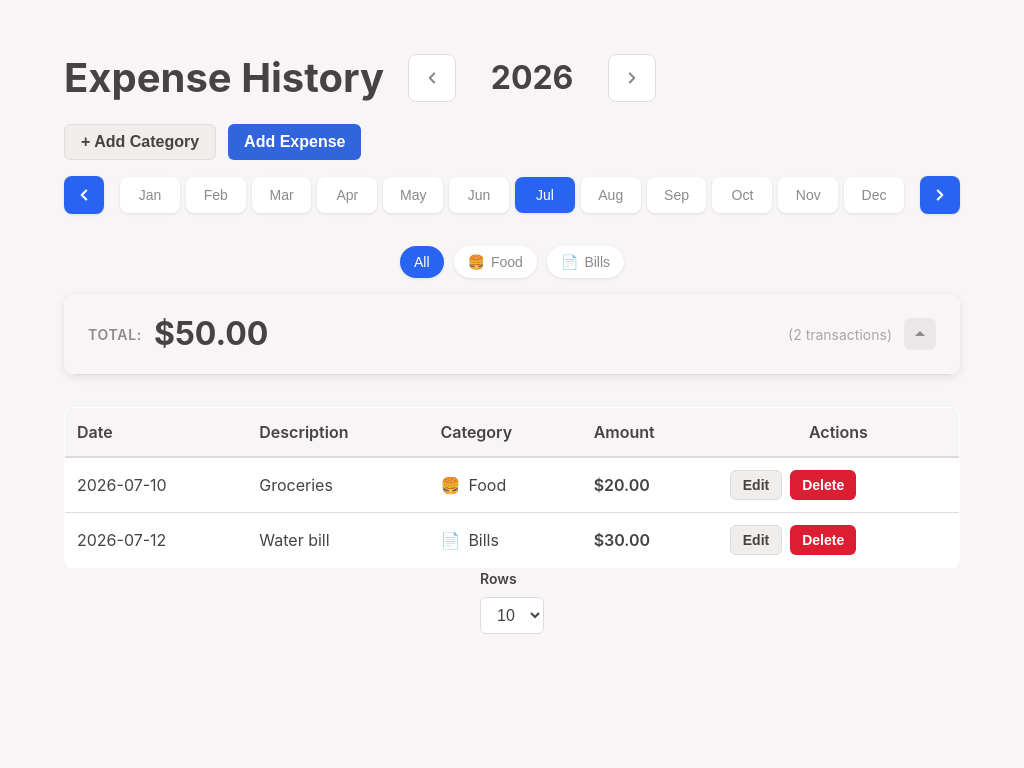
Test: HistoryPage category filtering › narrows the table and total to the selected category
Expected: the text "Groceries" is shown, [247,457,428,512]
Click the button "🍔 Food" at (495, 262), box [454,246,537,278]
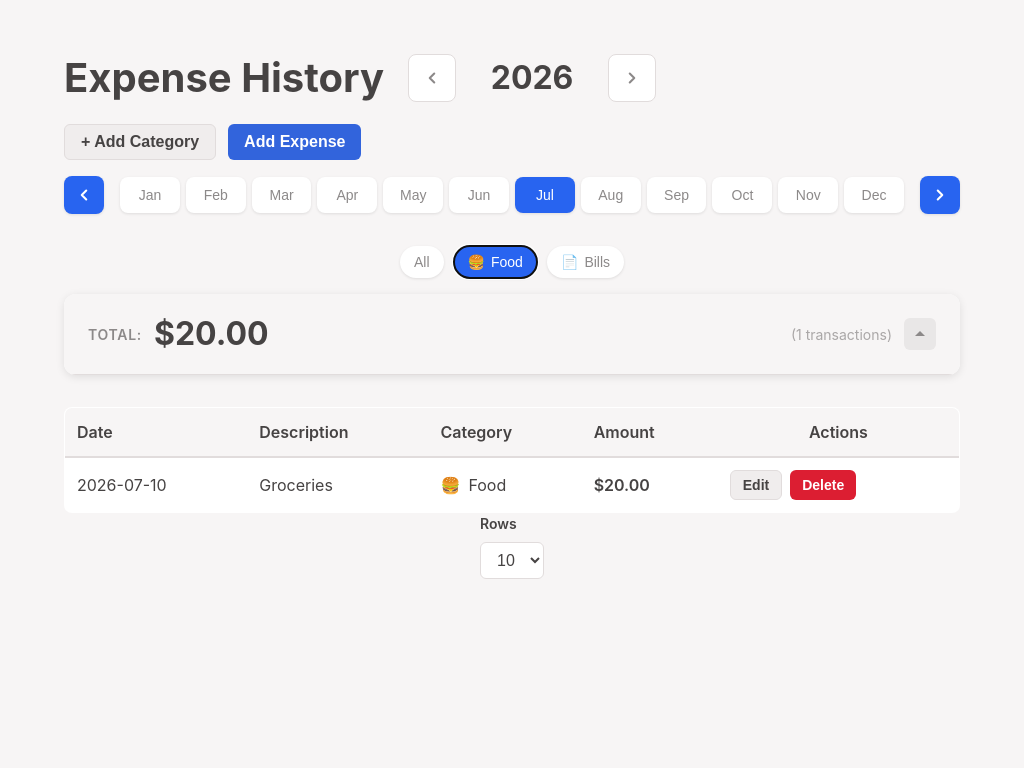
Result: the text "Water bill" is gone
Result: the text "$20.00" is shown at [154,310,269,358]
Result: the text "(1 transactions)" is shown at [791,324,892,344]
